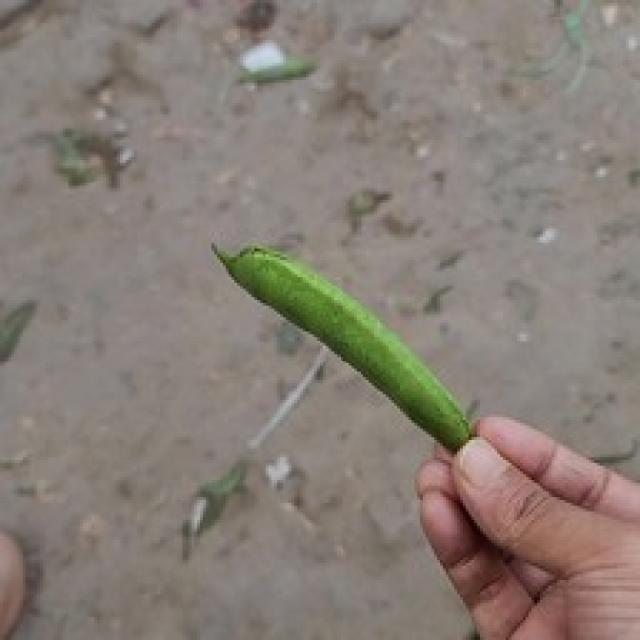Bean: (208, 237, 472, 454)
